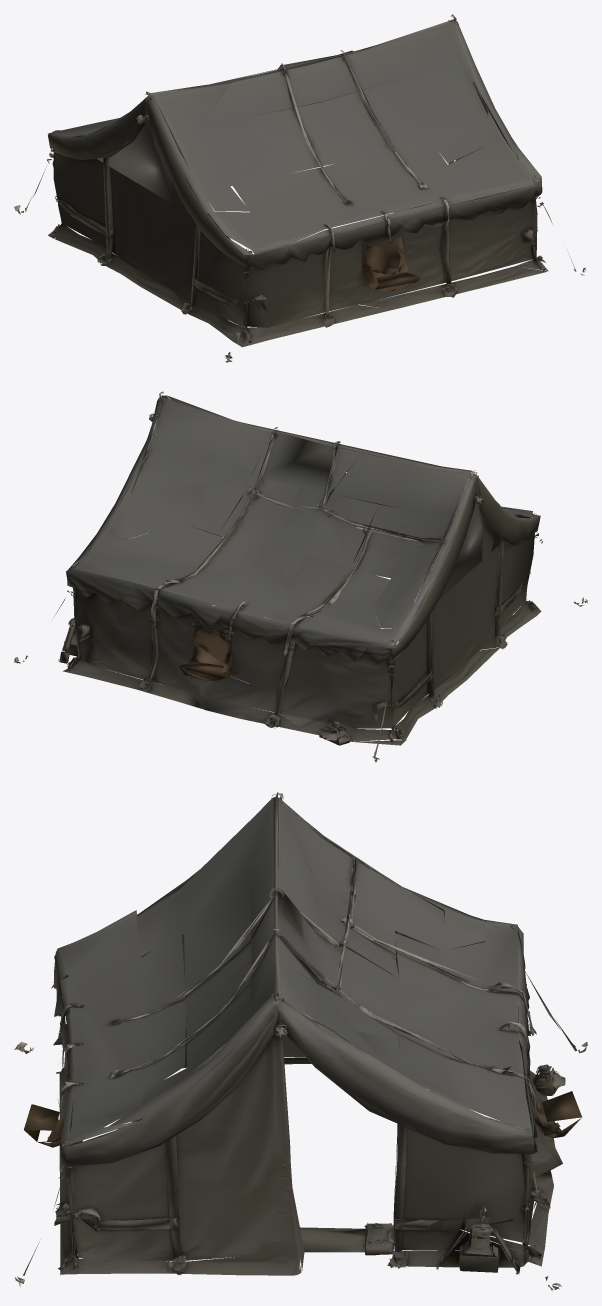
File: ch4_meridian_field_tent_LOD2.glb
The picture shows the model from 3 angles, top to bottom: view 1: azimuth 30°, elevation 25°; view 2: azimuth 150°, elevation 25°; view 3: azimuth 270°, elevation 25°; orthographic projection. The views are drawn at different scales.
Visible parts, largest first — view 1: tripo_node_1440f594-e552-42cb-9a64-4c4fdd637bb7; view 2: tripo_node_1440f594-e552-42cb-9a64-4c4fdd637bb7; view 3: tripo_node_1440f594-e552-42cb-9a64-4c4fdd637bb7.
Part boxes in pixels (box(x1,y1,x2,y2)): tripo_node_1440f594-e552-42cb-9a64-4c4fdd637bb7: box(14, 14, 585, 362); tripo_node_1440f594-e552-42cb-9a64-4c4fdd637bb7: box(14, 391, 587, 762); tripo_node_1440f594-e552-42cb-9a64-4c4fdd637bb7: box(14, 792, 587, 1290).
Size of the model in its own units: 0.998 by 0.5342 by 0.9934.
Materials: 1 (1 with a texture image).
